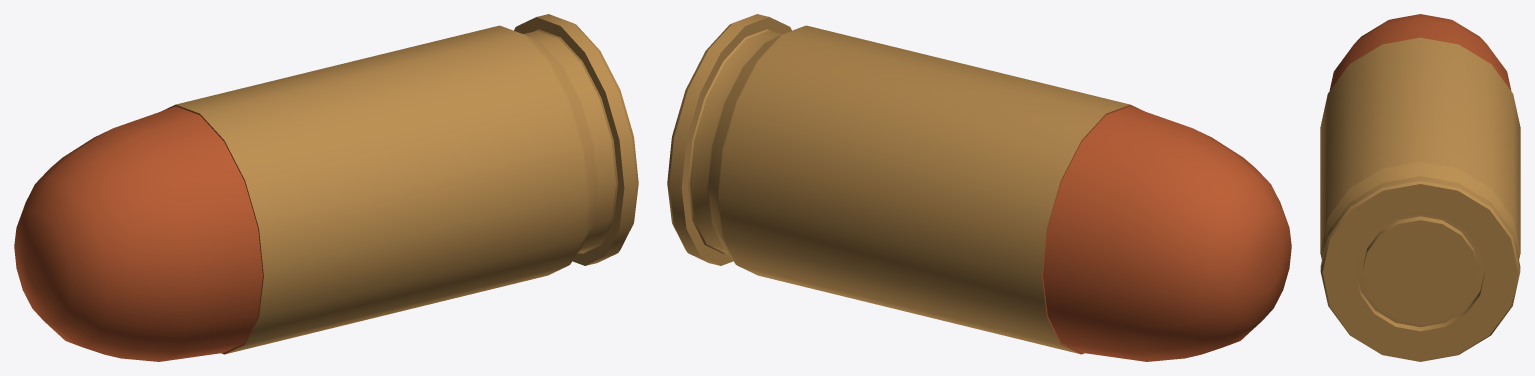
3 renders of one model, left to right at view 1: azimuth 30°, elevation 25°; view 2: azimuth 150°, elevation 25°; view 3: azimuth 270°, elevation 25°, orthographic. The views are drawn at different scales.
Parts seen in each view (by area): view 1: 9mm_0; view 2: 9mm_0; view 3: 9mm_0.
Part boxes in pixels (x1,y1,x2,y2): 9mm_0: [14, 14, 638, 361]; 9mm_0: [667, 14, 1291, 361]; 9mm_0: [1320, 14, 1520, 361].
Bounding box in the file's own units: 0.2054 × 0.0843 × 0.0843.
